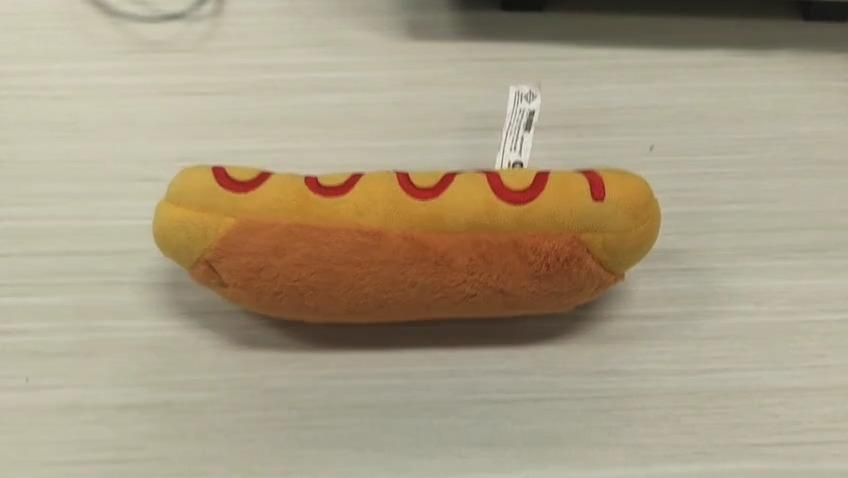hotdog: (151, 162, 661, 325)
